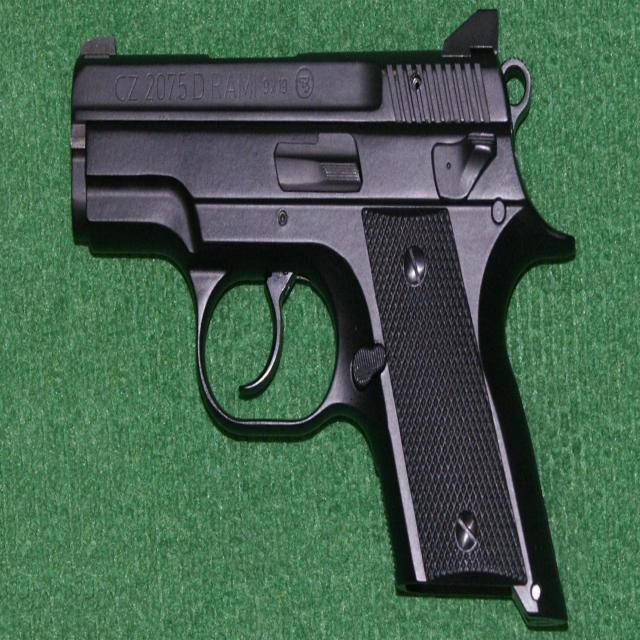Pistol: (42, 0, 611, 640)
